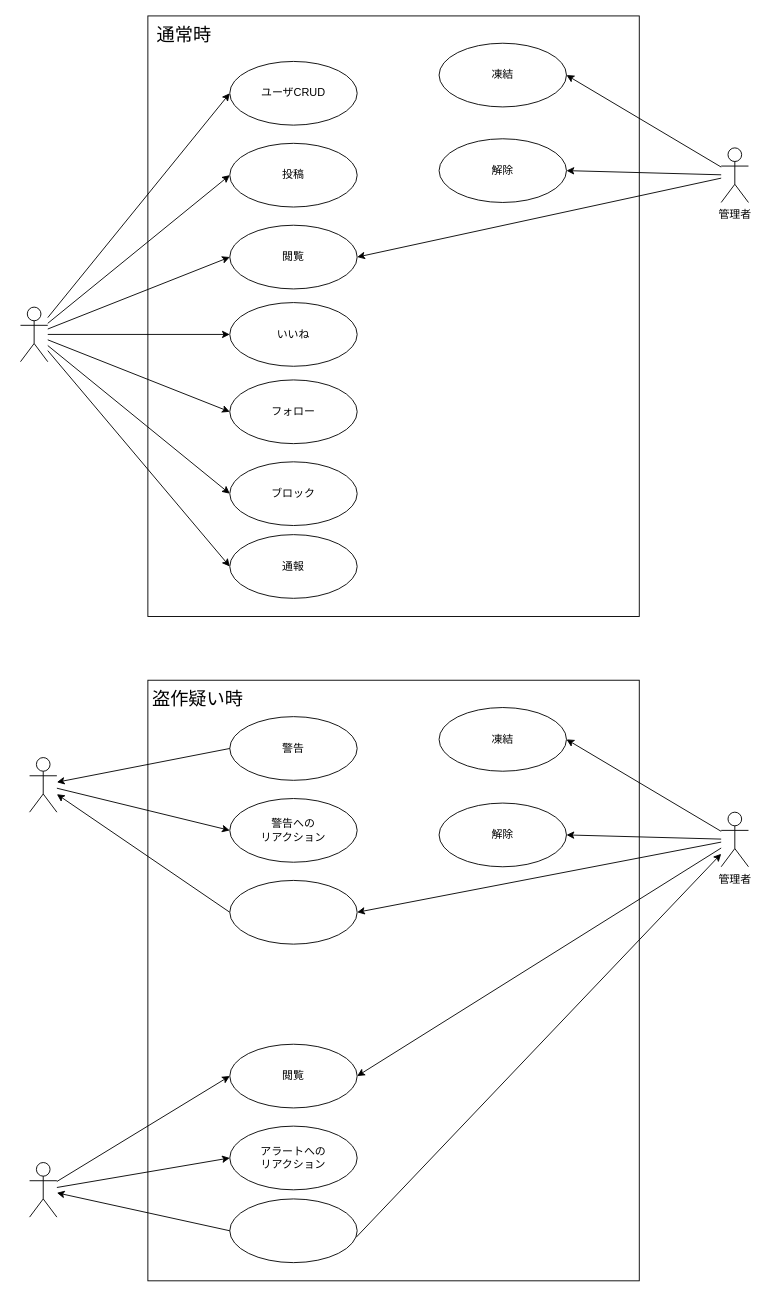
Image size: 767x1297. Some labels were removed from this diagram. The shapes that lost their labels are listed below. From the top down, each one's centre as x and y in pixels, then its label:
At (x=34, y=334): "ユーザ".
At (x=43, y=784): "ぱくった側".
At (x=293, y=912): "ペナルティ".
At (x=43, y=1189): "元投稿者".
At (x=293, y=1230): "盗作アラート".
